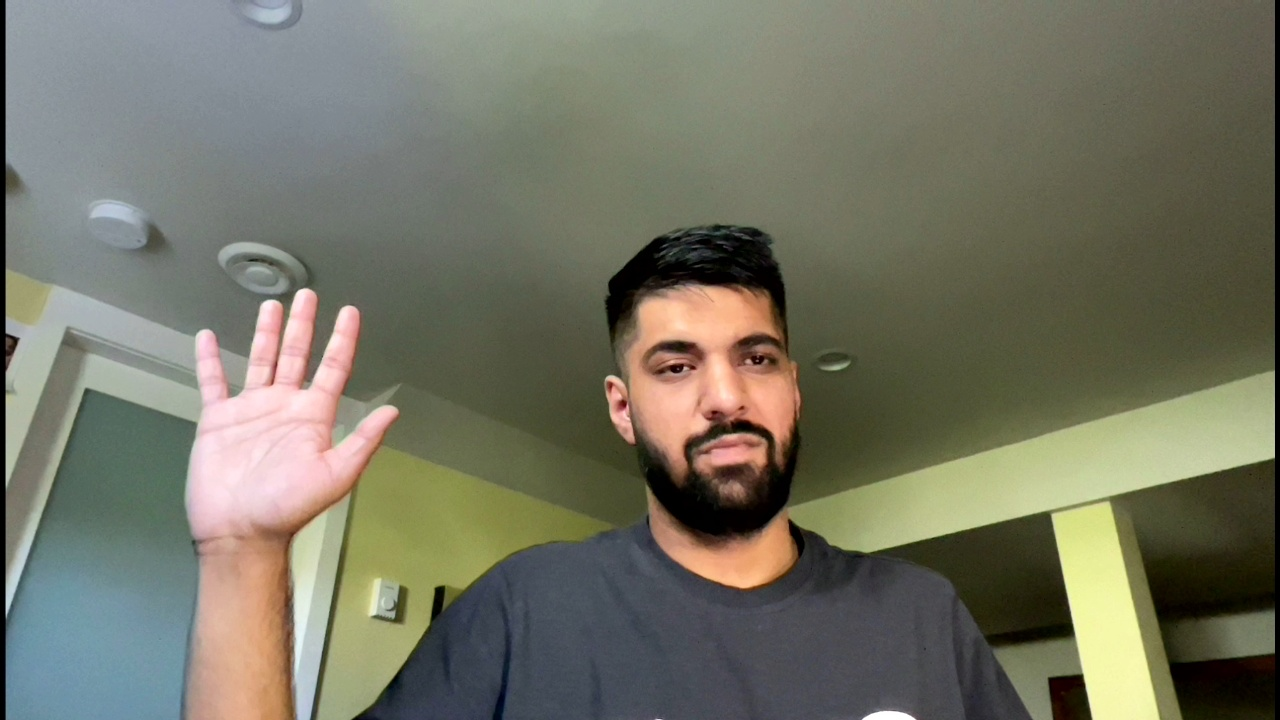Hey!: (176, 283, 404, 552)
